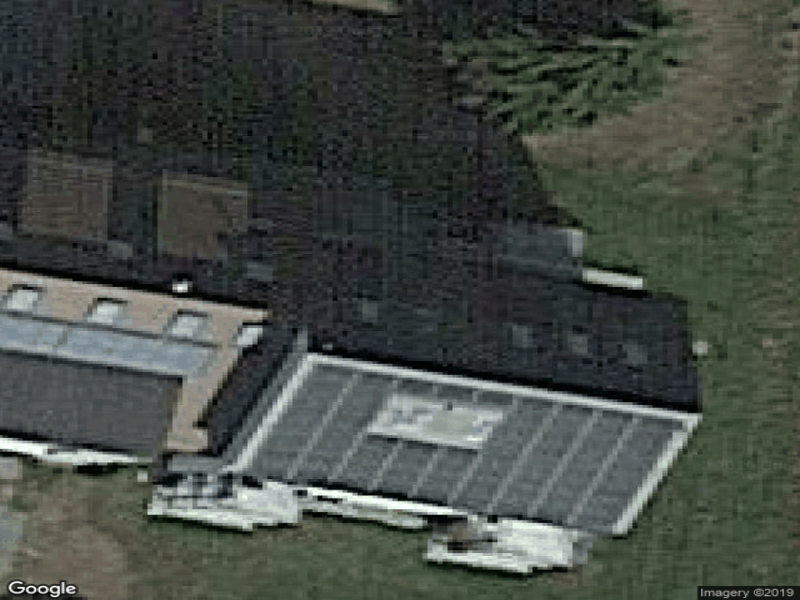pv: (249, 363, 678, 534)
